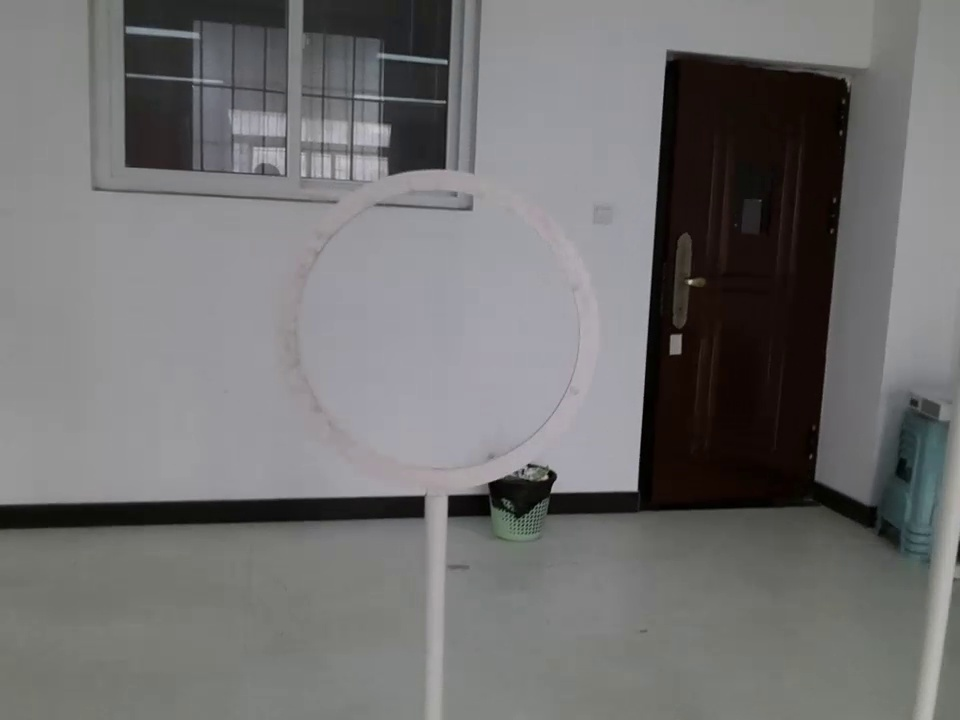quan: (266, 164, 597, 506)
